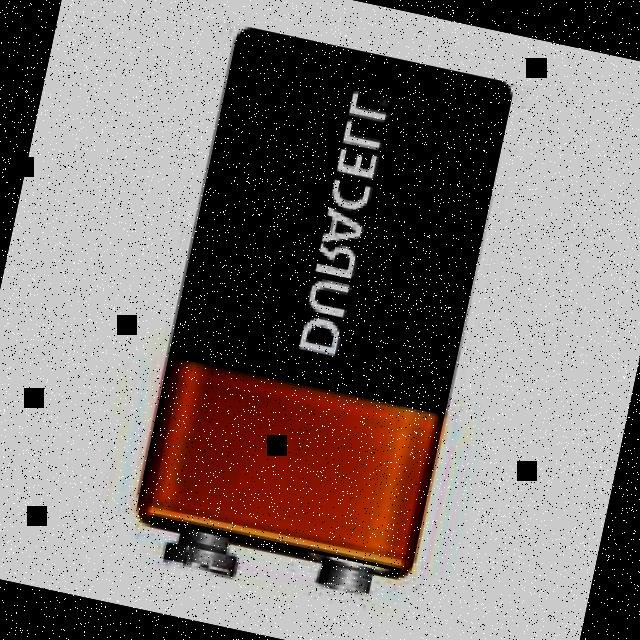battery: (136, 28, 512, 598)
